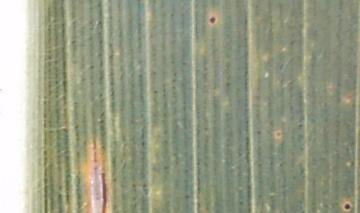tarspot: (343, 202, 352, 211), (275, 129, 283, 137), (208, 17, 217, 24)
